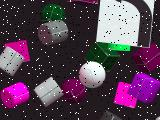Left: (96, 0, 154, 48)
